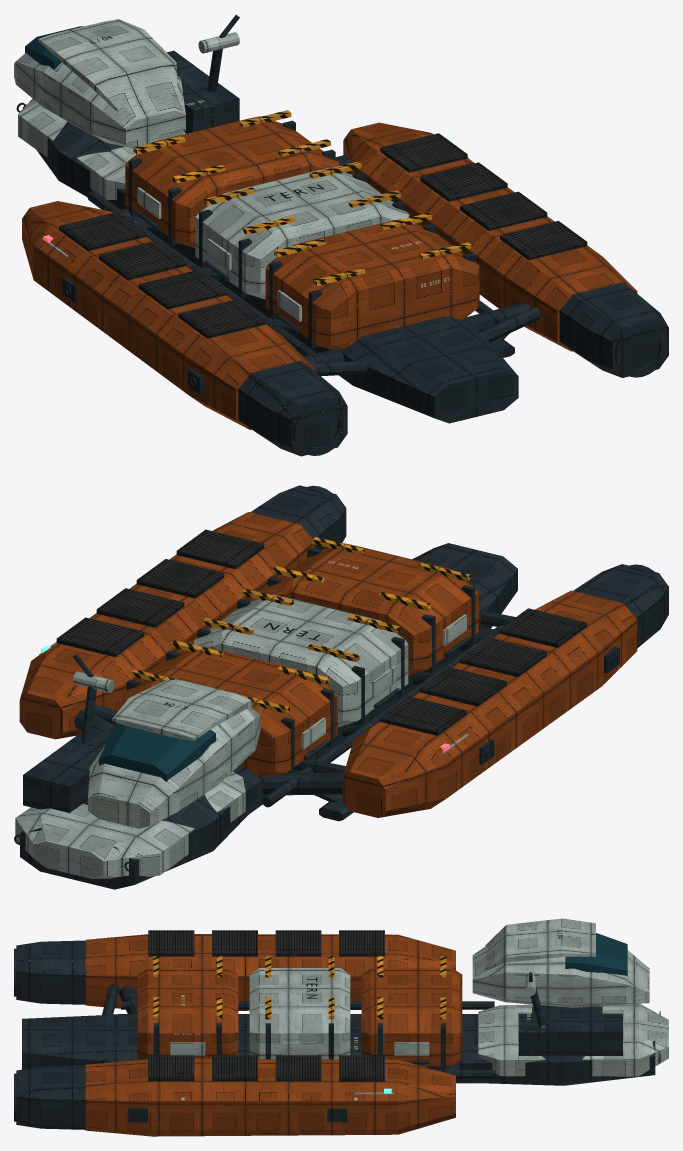
File: ship_tern.glb
3 views of the same model, one above another, from view 1: azimuth 30°, elevation 25°; view 2: azimuth 150°, elevation 25°; view 3: azimuth 270°, elevation 25° (orthographic). The views are drawn at different scales.
Visible parts, largest first — view 1: Ochre, Frame, Ivory, Thermal, Safety, Glass; view 2: Ochre, Ivory, Frame, Thermal, Safety, Glass; view 3: Ochre, Frame, Ivory, Thermal, Safety, Glass.
Part boxes in pixels (box(x1,y1,x2,y2)): Ochre: box(22, 116, 637, 429); Frame: box(16, 14, 668, 456); Ivory: box(14, 19, 469, 321); Thermal: box(59, 133, 587, 338); Safety: box(133, 110, 471, 286); Glass: box(25, 26, 83, 69); Ochre: box(19, 512, 637, 817); Ivory: box(15, 594, 468, 878); Frame: box(14, 485, 668, 889); Thermal: box(56, 529, 586, 735); Safety: box(131, 537, 470, 713); Glass: box(99, 723, 215, 781); Ochre: box(85, 934, 462, 1136); Frame: box(14, 940, 660, 1129); Ivory: box(170, 918, 668, 1094); Thermal: box(148, 930, 384, 1081); Safety: box(153, 956, 446, 1019); Glass: box(565, 933, 627, 976).
Bounding box in the file's own units: 14.06 × 5.48 × 23.69.
Materials: 9 (7 with a texture image).
